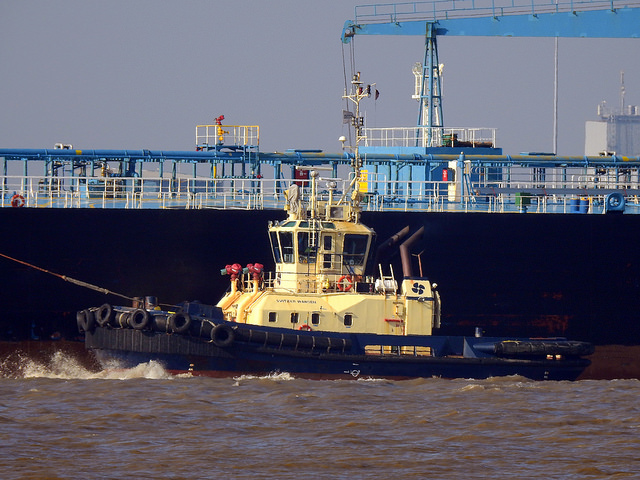tug_boat: (82, 167, 604, 393)
